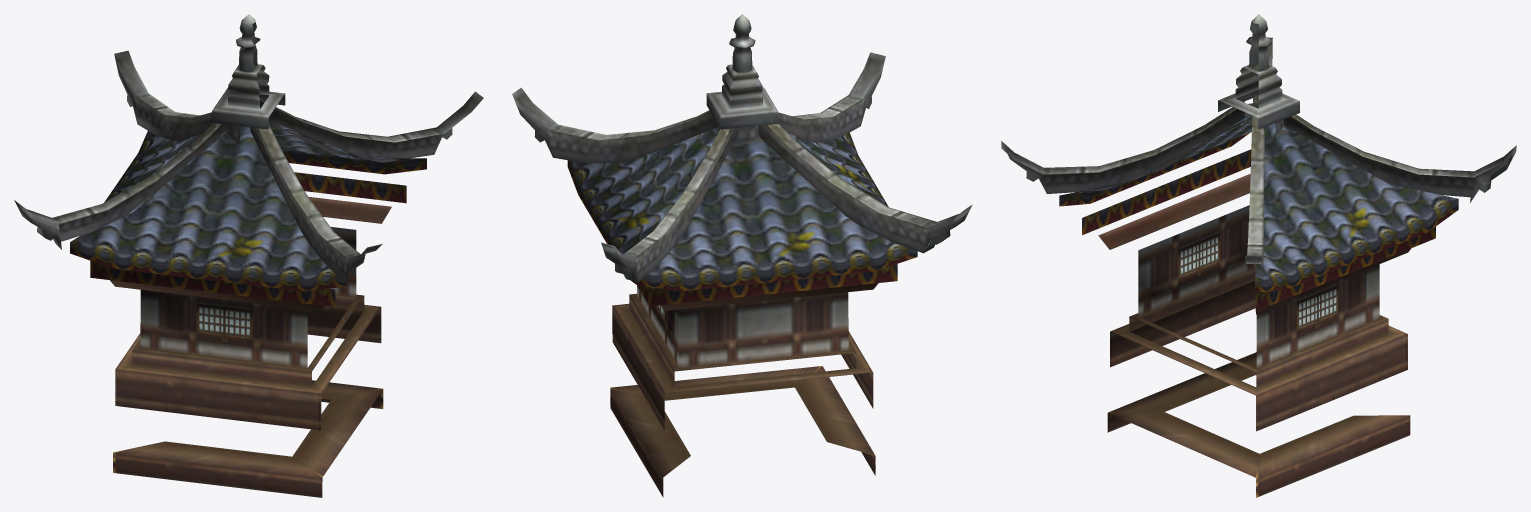
Rendered from S2_Build_XSC016_L1.FBX.
3 renders of one model, left to right at view 1: azimuth 30°, elevation 25°; view 2: azimuth 150°, elevation 25°; view 3: azimuth 270°, elevation 25°, orthographic.
Visible parts, largest first — view 1: S2_Build_XSC016_L1; view 2: S2_Build_XSC016_L1; view 3: S2_Build_XSC016_L1.
Boxes of the visible parts, x1,y1,x2,y2 form: S2_Build_XSC016_L1: [14, 14, 483, 497]; S2_Build_XSC016_L1: [512, 14, 972, 497]; S2_Build_XSC016_L1: [1001, 14, 1516, 497].
Bounding box in the file's own units: 3716 × 3326 × 3696.
